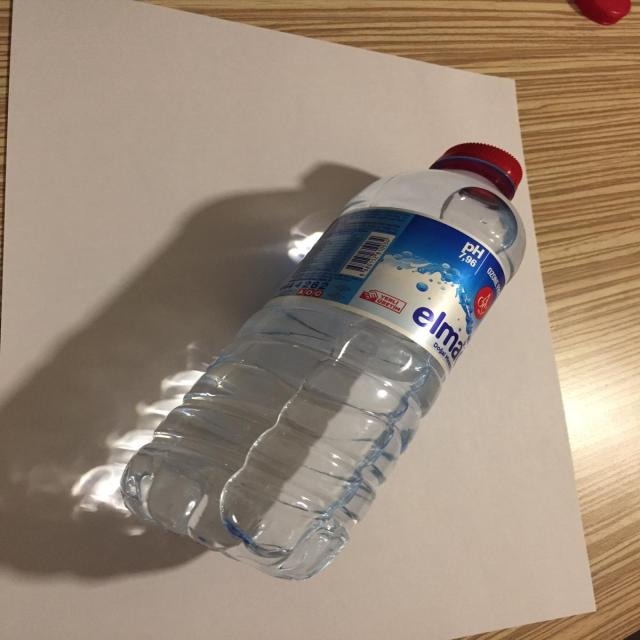anorganik: (225, 134, 518, 574)
